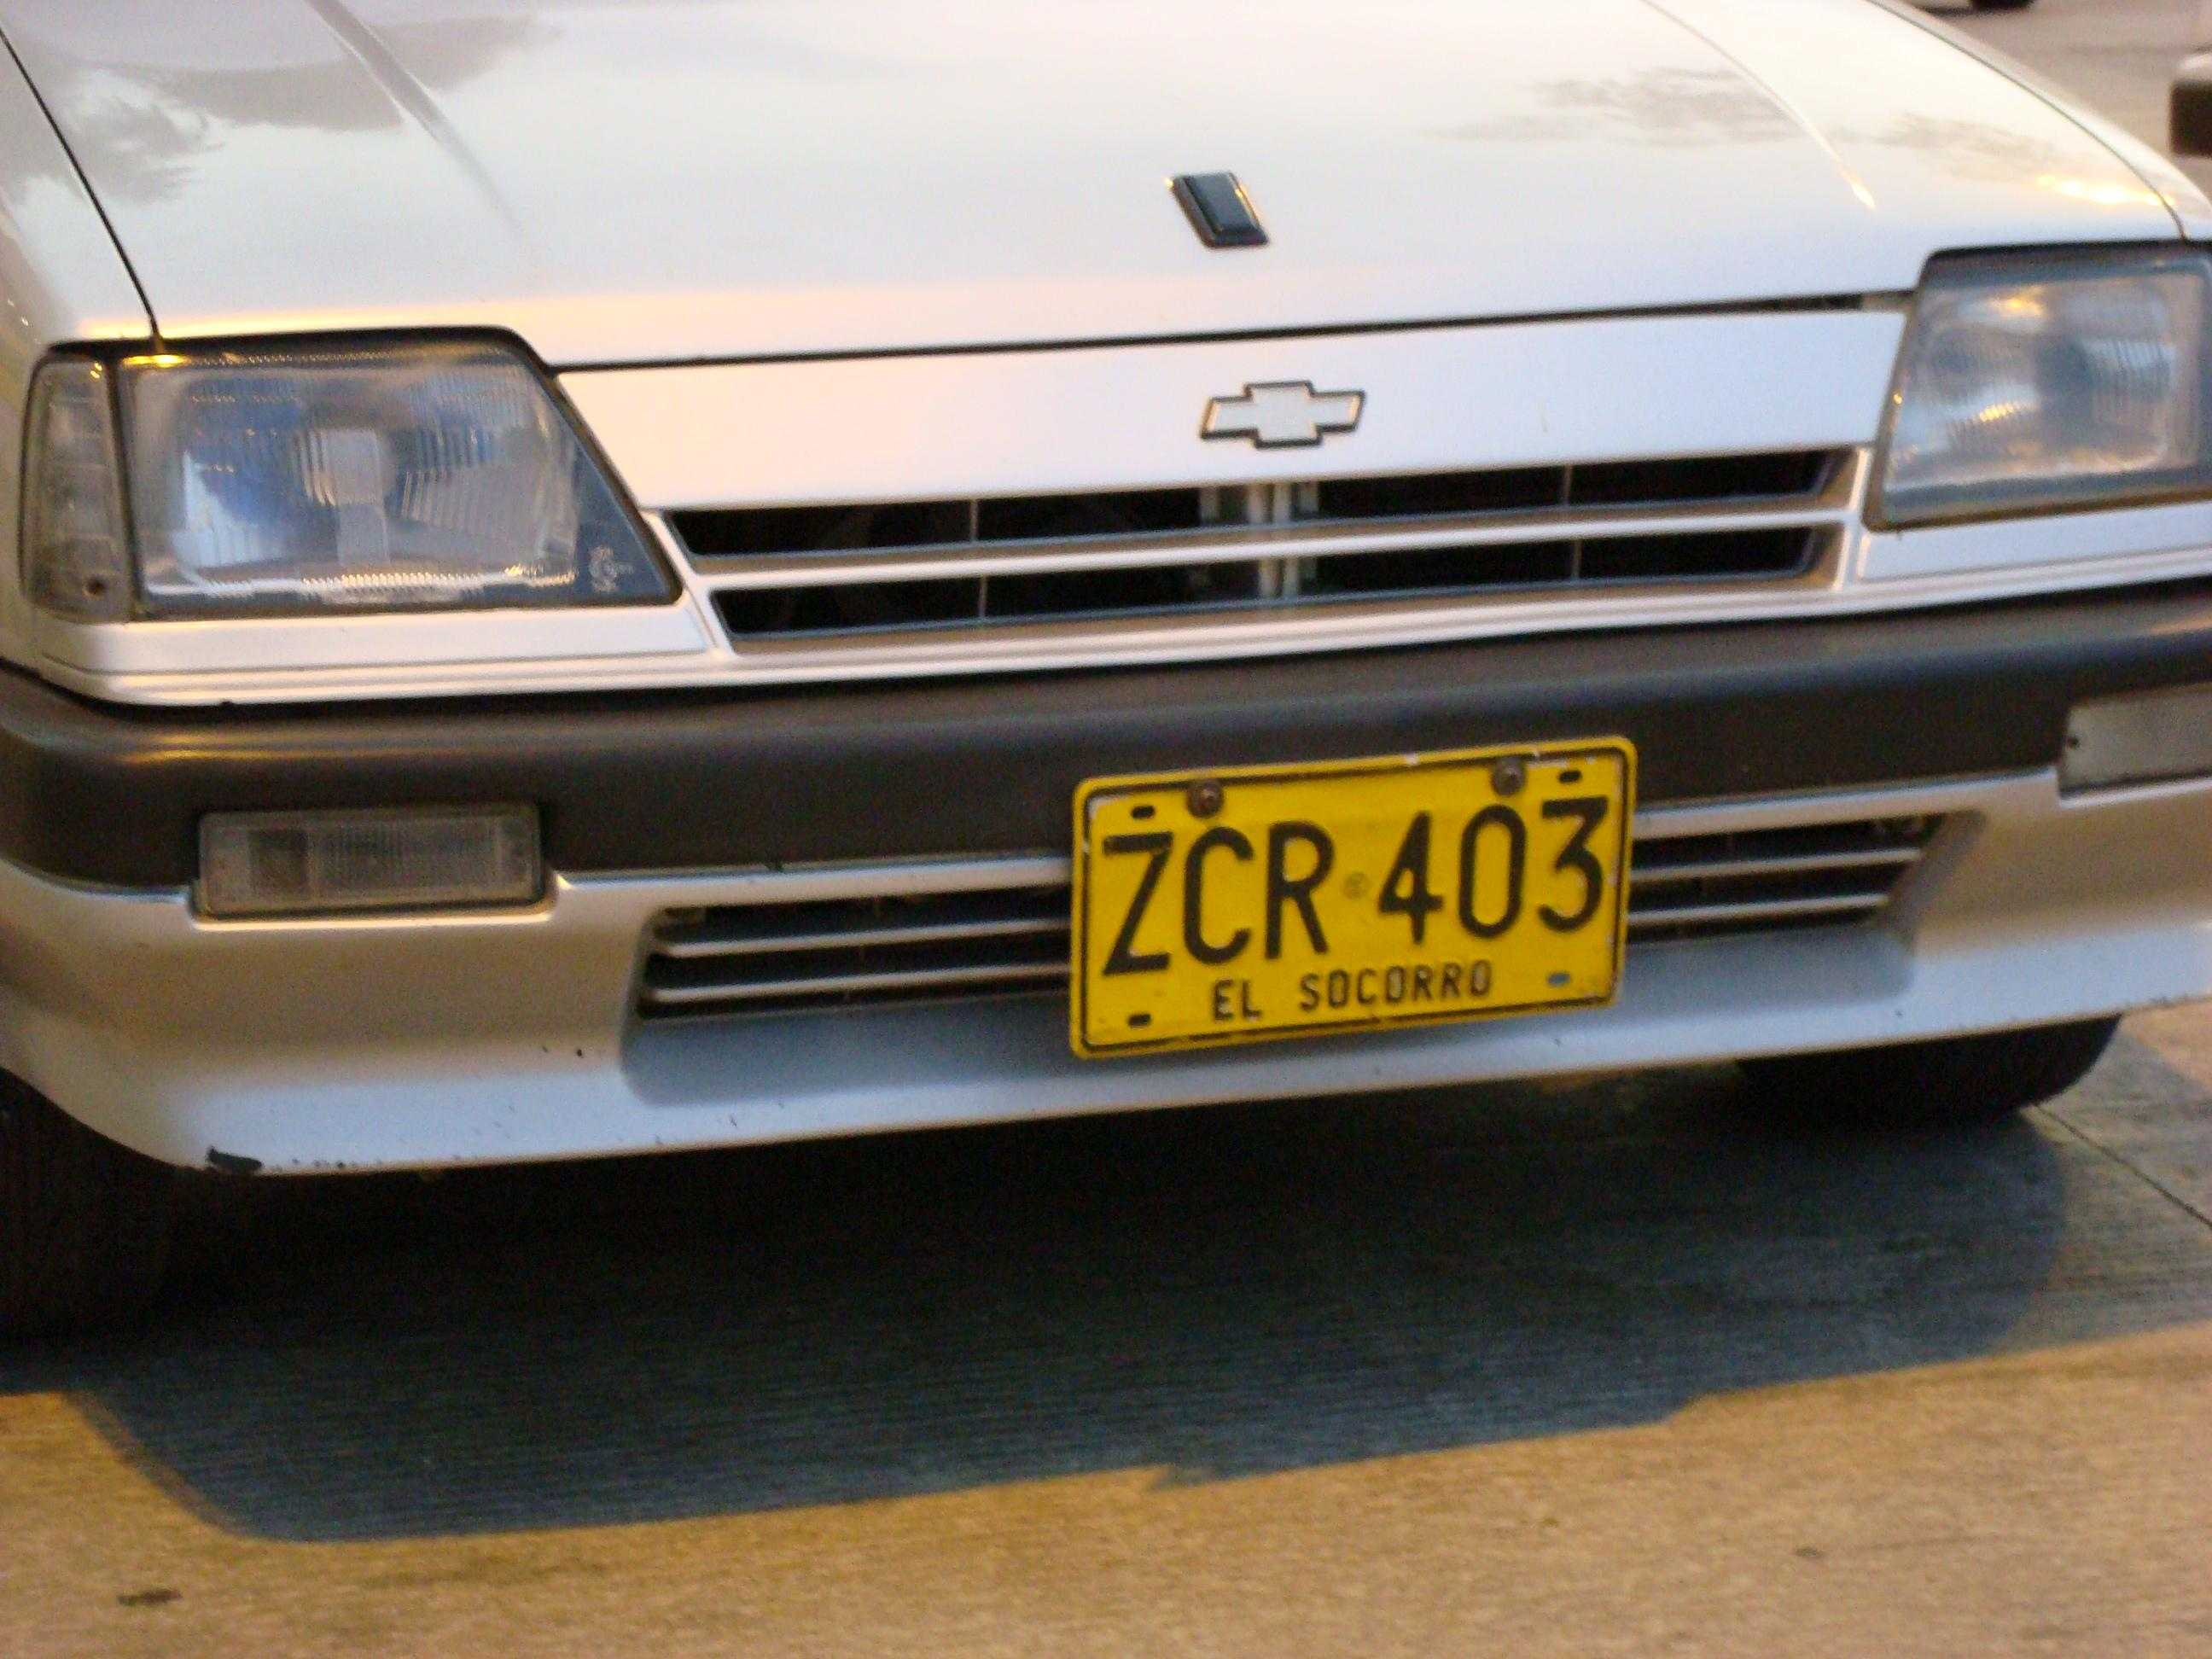placas: (1053, 713, 1648, 1079)
